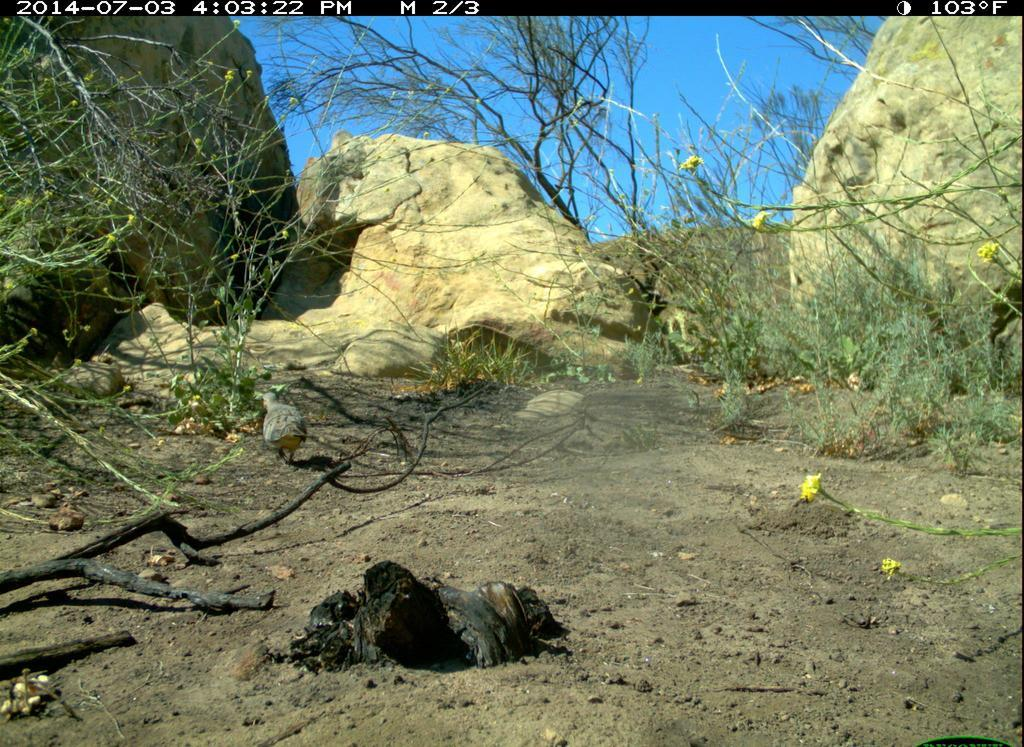bird: (242, 376, 333, 477)
